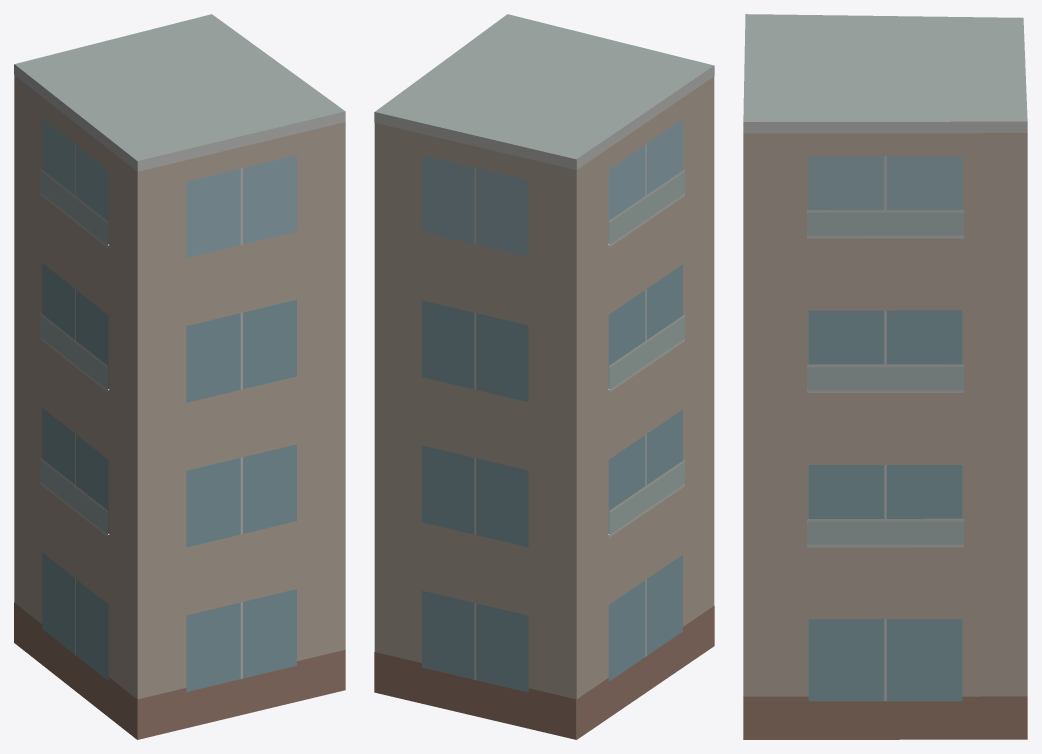
File: survey-upis-32471745.glb
3 views of the same model, side by side, from view 1: azimuth 30°, elevation 25°; view 2: azimuth 150°, elevation 25°; view 3: azimuth 270°, elevation 25° (orthographic). The views are drawn at different scales.
Visible parts, largest first — view 1: survey-upis-32471745.tmp; view 2: survey-upis-32471745.tmp; view 3: survey-upis-32471745.tmp.
Part boxes in pixels (left/top/right/bottom): survey-upis-32471745.tmp: left=14, top=14, right=345, bottom=739; survey-upis-32471745.tmp: left=374, top=14, right=714, bottom=739; survey-upis-32471745.tmp: left=743, top=14, right=1027, bottom=739.
Size of the model in its own units: 4.99 by 13.2 by 5.52.
